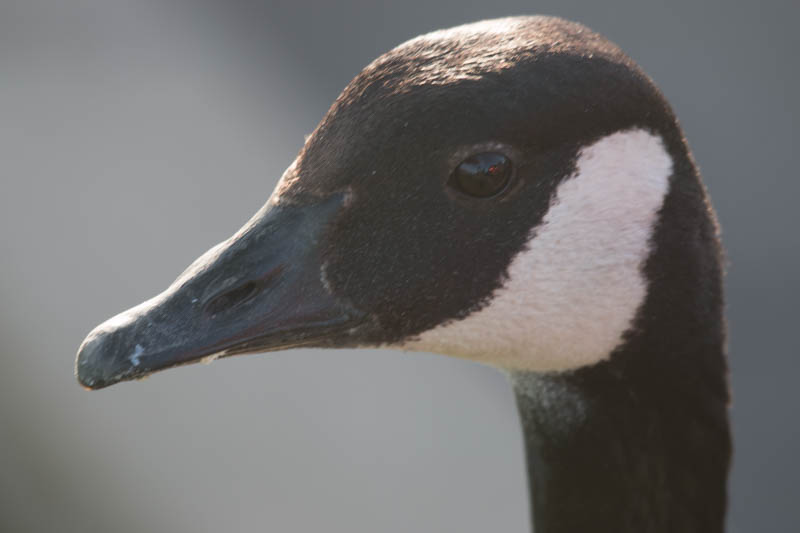goose-head: (74, 14, 726, 391)
